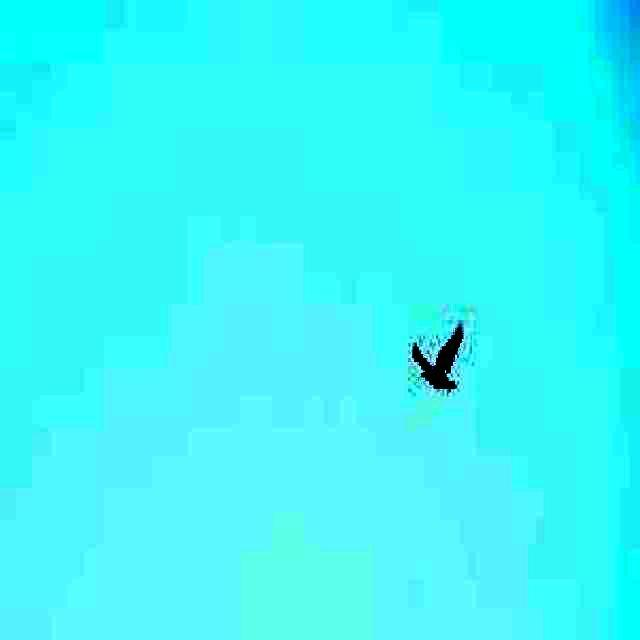bird: (408, 316, 464, 398)
